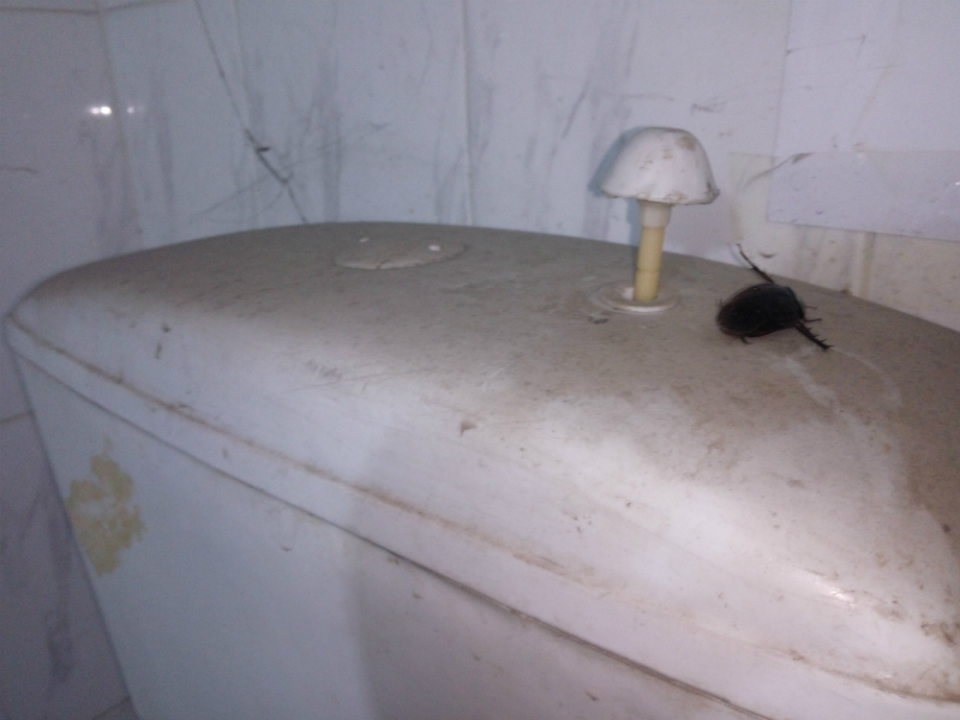cockroach: (658, 247, 855, 377)
